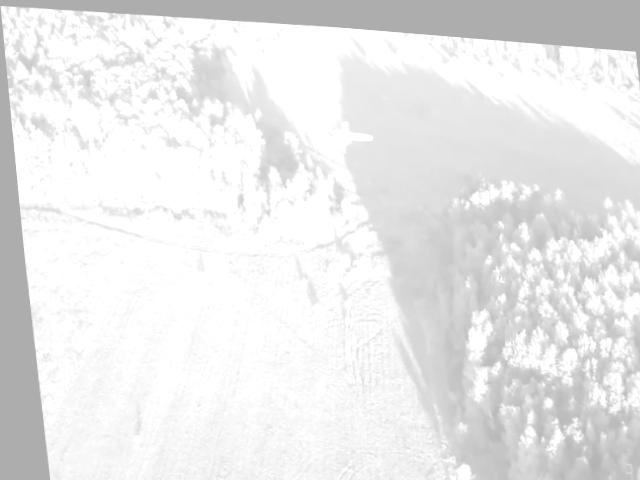hedef: (307, 109, 374, 149)
